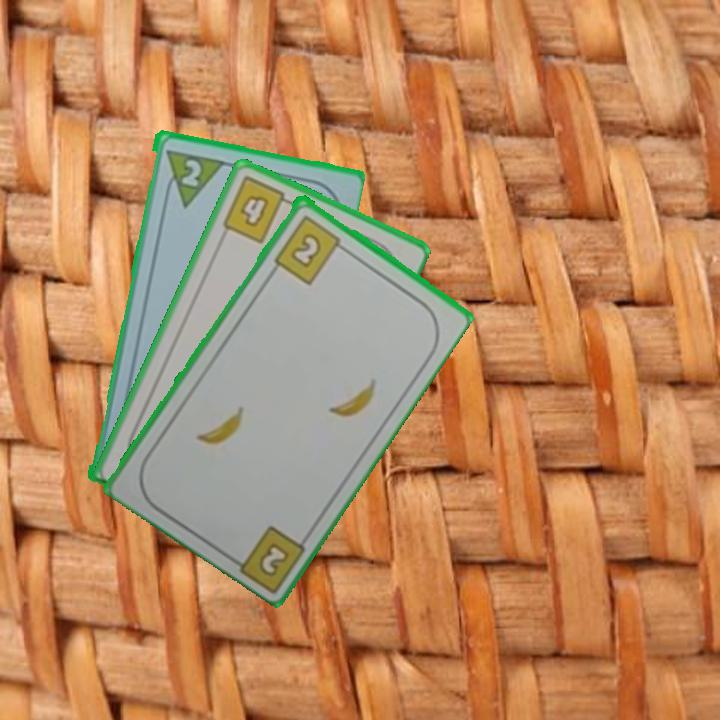2b: (270, 211, 350, 287), (254, 538, 292, 580)
2p: (159, 145, 224, 209)
4b: (218, 172, 297, 246)
